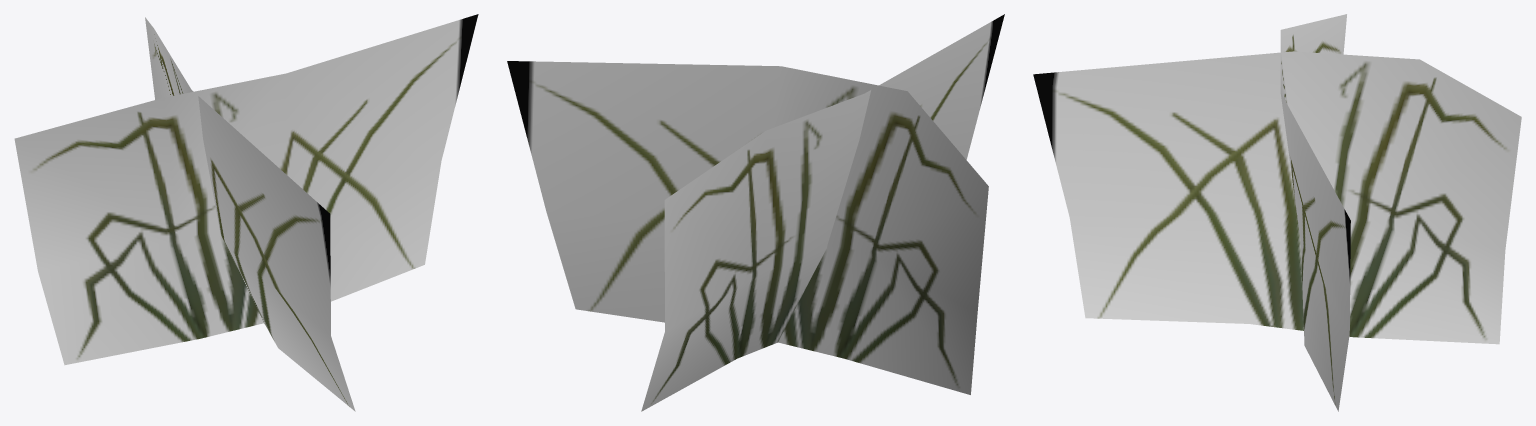
File: Grass_Small_D.fbx
The picture shows the model from 3 angles, left to right: view 1: azimuth 30°, elevation 25°; view 2: azimuth 150°, elevation 25°; view 3: azimuth 270°, elevation 25°; orthographic projection. The views are drawn at different scales.
Parts seen in each view (by area): view 1: Grass_Small_D; view 2: Grass_Small_D; view 3: Grass_Small_D.
Boxes of the visible parts, x1,y1,x2,y2 form: Grass_Small_D: (14, 14, 478, 411); Grass_Small_D: (507, 14, 1004, 411); Grass_Small_D: (1033, 14, 1521, 411).
Bounding box in the file's own units: 70.37 × 37.86 × 67.42.
